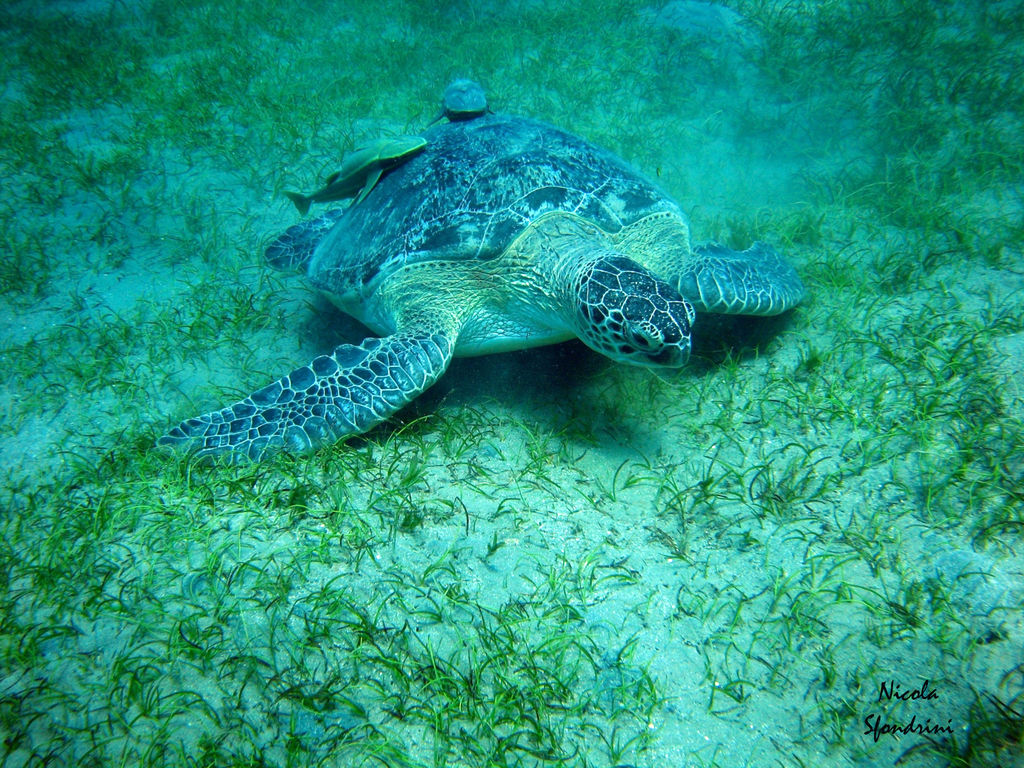Sea turtles: (147, 108, 806, 470)
